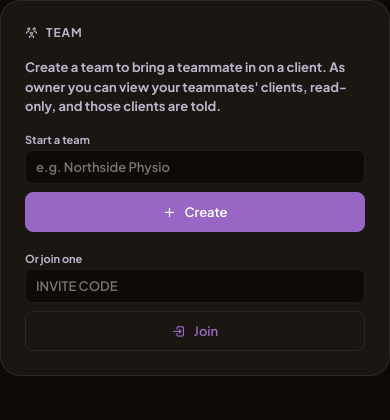
Test: TeamCard — not on a team › shows the database's reason when joining fails, and stays usable
Type "ZZZZZZZZ" into the field labelled "Or join one" at (195, 286), box 25,268 -> 365,302
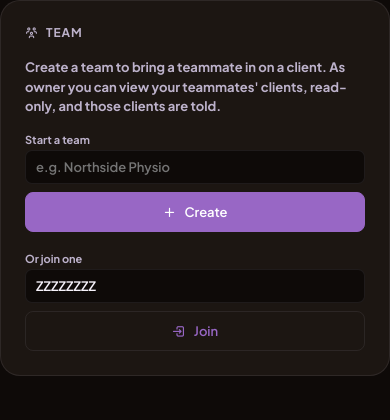
Click the button "Join" at (195, 330), box 25,310 -> 365,350
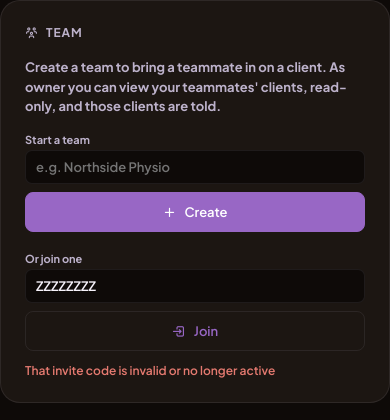
Expected: the message shows "invalid or no longer active", 25,362 -> 275,378
